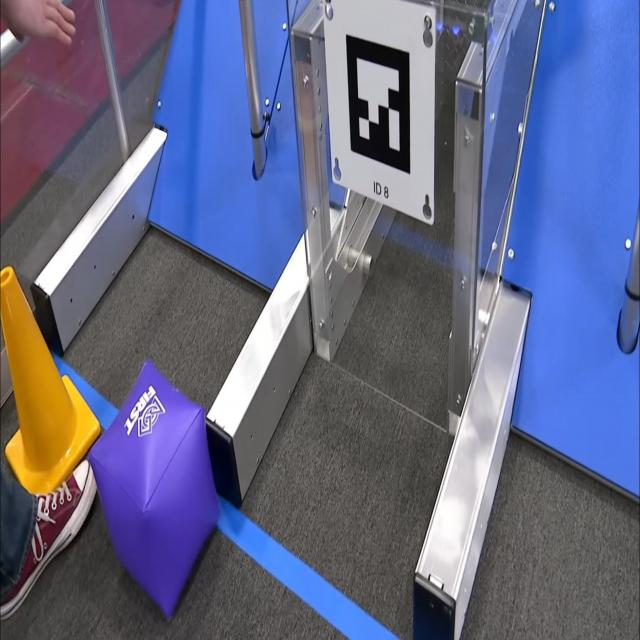frc_cone: (0, 265, 100, 502)
frc_cube: (90, 360, 220, 614)
